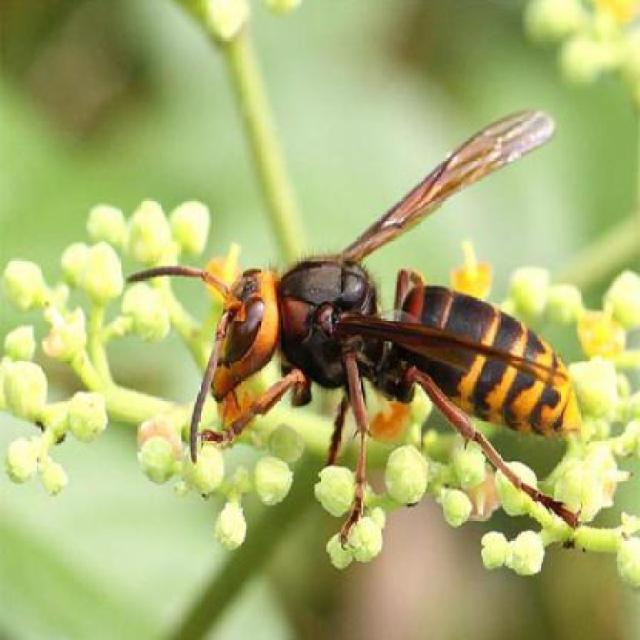Wasp: (118, 106, 596, 540)
